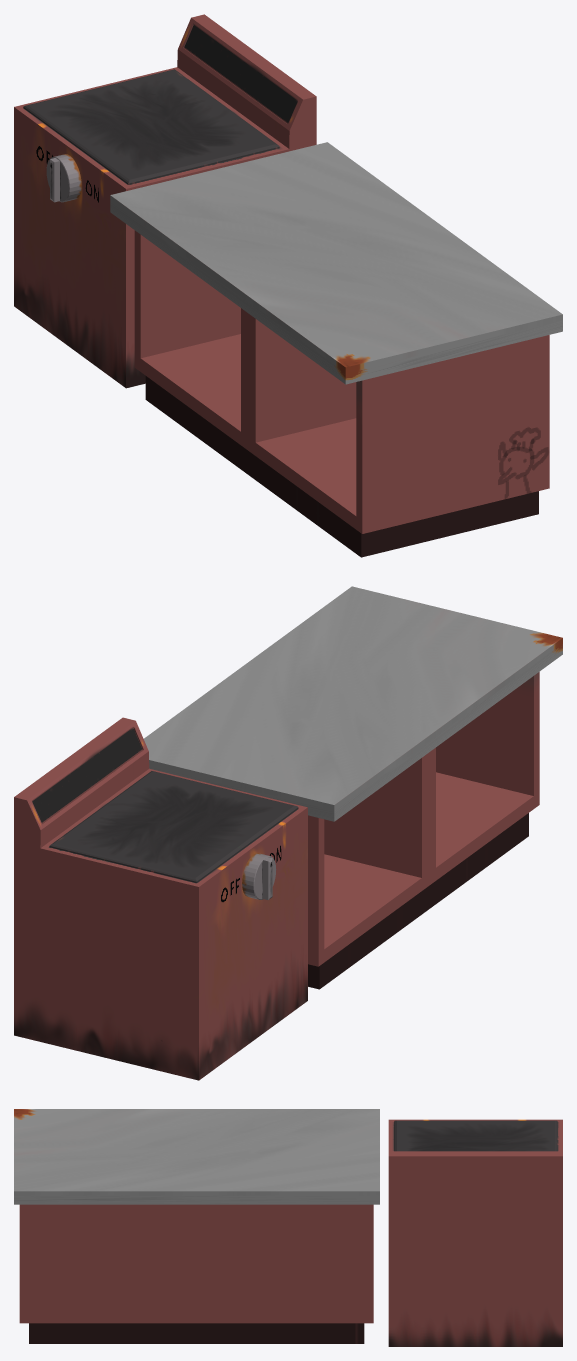
File: GrillAndCounterTopModel.fbx
The picture shows the model from 3 angles, top to bottom: view 1: azimuth 30°, elevation 25°; view 2: azimuth 150°, elevation 25°; view 3: azimuth 270°, elevation 25°; orthographic projection. The views are drawn at different scales.
Parts seen in each view (by area): view 1: CounterTop, Grill, Knob; view 2: CounterTop, Grill, Knob; view 3: CounterTop, Grill.
Boxes of the visible parts, box(x1,y1,x2,y2) form: CounterTop: box(110, 142, 562, 557); Grill: box(14, 14, 316, 388); Knob: box(46, 154, 81, 202); CounterTop: box(144, 586, 562, 989); Grill: box(14, 717, 307, 1080); Knob: box(242, 853, 276, 899); CounterTop: box(14, 1109, 379, 1343); Grill: box(388, 1119, 562, 1346).
Size of the model in its own units: 116 by 125 by 326.
3 materials, 3 textured.
